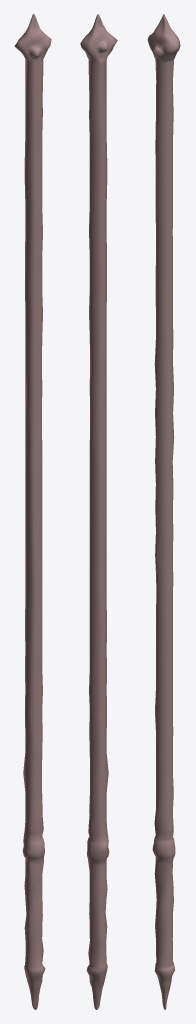
File: Baston LP Retopo FBX.fbx
3 renders of one model, left to right at view 1: azimuth 30°, elevation 25°; view 2: azimuth 210°, elevation 25°; view 3: azimuth 330°, elevation 25°, orthographic.
Visible parts, largest first — view 1: BastonAmara; view 2: BastonAmara; view 3: BastonAmara.
Boxes of the visible parts, bbox=[...] form: BastonAmara: bbox=[14, 14, 51, 1009]; BastonAmara: bbox=[80, 14, 117, 1009]; BastonAmara: bbox=[147, 14, 180, 1009].
Size of the model in its own units: 0.0959 by 2.75 by 0.0675.
